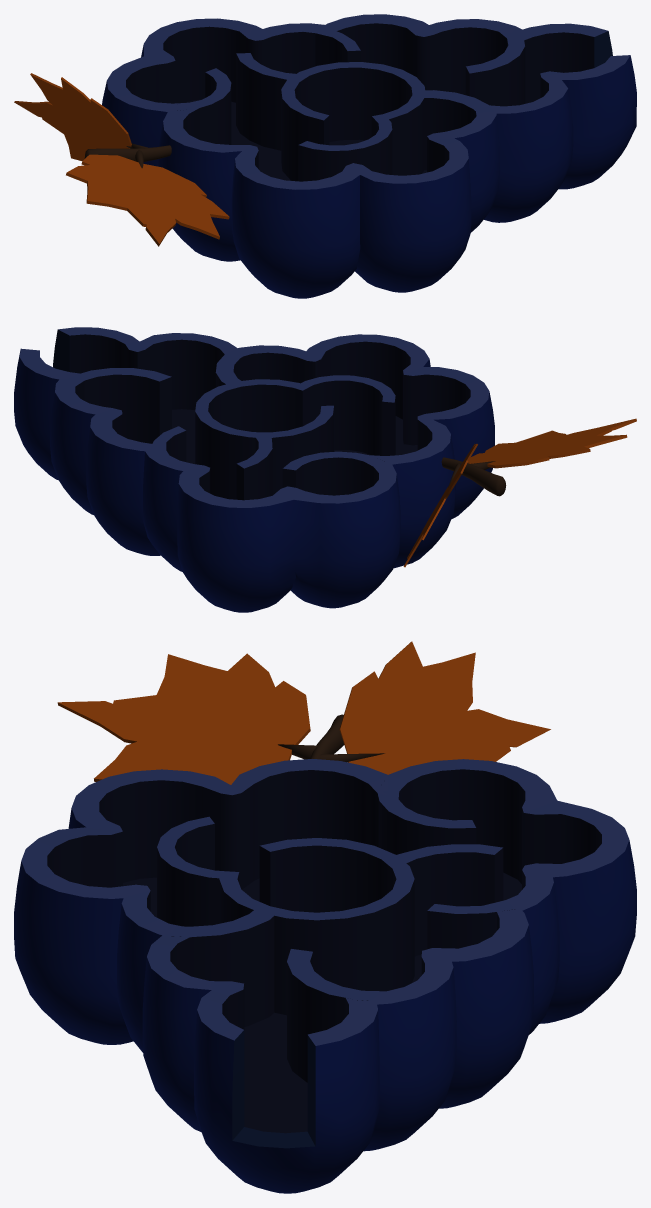
Rendered from grapes.FBX.
3 renders of one model, top to bottom at view 1: azimuth 30°, elevation 25°; view 2: azimuth 150°, elevation 25°; view 3: azimuth 270°, elevation 25°, orthographic. The views are drawn at different scales.
Visible parts, largest first — view 1: Object027, Object018, Object025, Plane003, Plane004, Line001, Object026; view 2: Object027, Object018, Object025, Plane003, Line001, Plane004, Object026; view 3: Object018, Object027, Object025, Plane003, Plane004, Object026.
Part boxes in pixels (<box>): Object027: <box>102,45,636,298</box>; Object018: <box>126,23,594,181</box>; Object025: <box>107,14,630,189</box>; Plane003: <box>66,154,229,246</box>; Plane004: <box>14,73,131,161</box>; Line001: <box>84,145,171,161</box>; Object026: <box>594,31,612,67</box>; Object027: <box>14,351,494,612</box>; Object018: <box>69,334,470,500</box>; Object025: <box>19,327,489,507</box>; Plane003: <box>468,418,636,468</box>; Line001: <box>441,457,506,496</box>; Plane004: <box>403,443,477,567</box>; Object026: <box>53,329,69,371</box>; Object018: <box>47,769,601,1133</box>; Object027: <box>14,808,636,1193</box>; Object025: <box>21,759,629,1045</box>; Plane003: <box>57,653,310,784</box>; Plane004: <box>339,641,550,774</box>; Object026: <box>232,1030,315,1148</box>.
Size of the model in its own units: 329 by 226 by 98.82.
